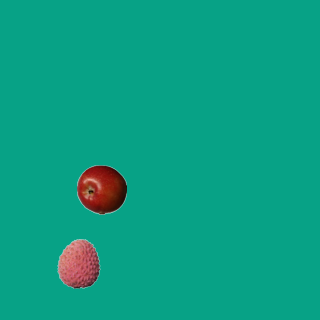Apple Braeburn: (76, 164, 126, 214)
Lychee: (53, 238, 103, 288)
